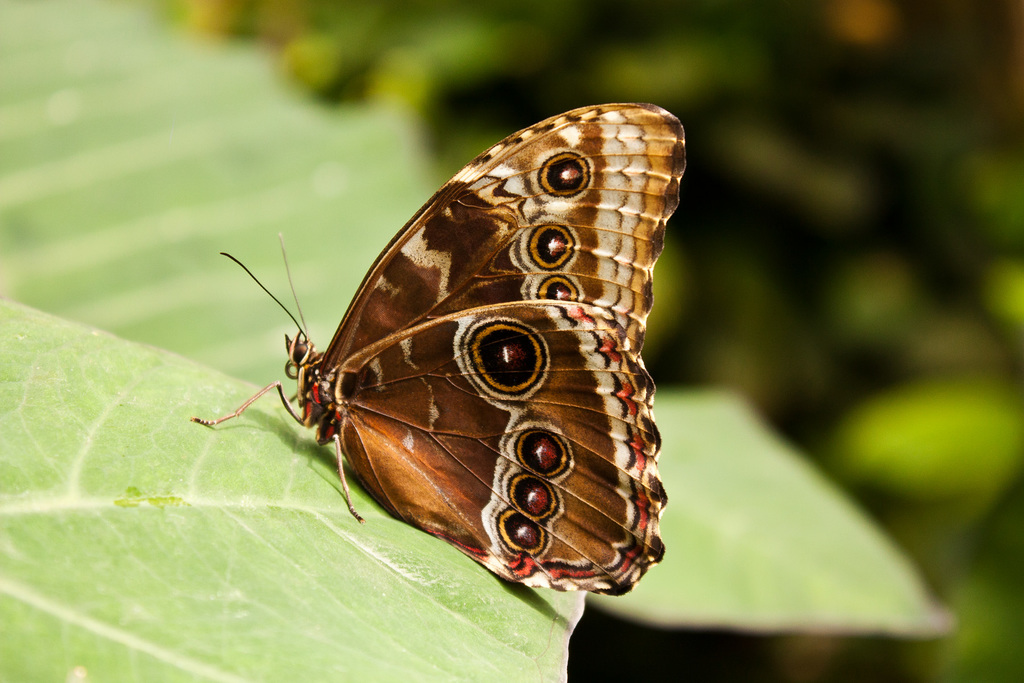Butterfly: (221, 99, 700, 592)
